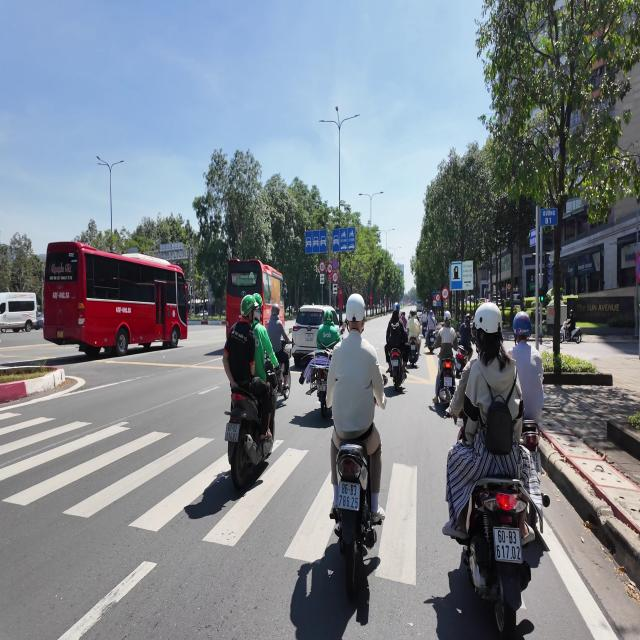car: (292, 305, 338, 365)
motorcycle: (457, 478, 536, 637), (331, 443, 376, 598), (225, 388, 274, 488), (299, 347, 340, 410), (522, 421, 541, 473), (439, 359, 455, 407), (390, 347, 405, 391), (276, 366, 290, 399), (455, 345, 469, 378), (409, 337, 419, 366), (426, 330, 435, 353)
